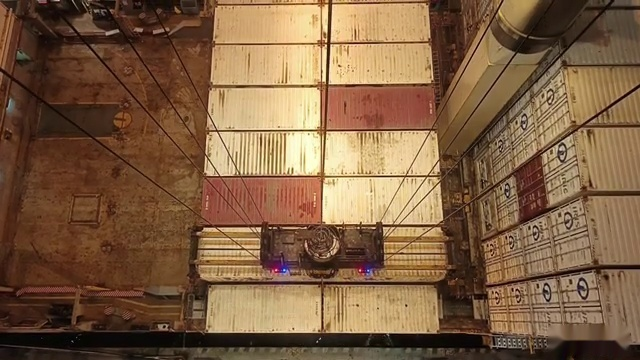container: (194, 223, 448, 283), (197, 175, 446, 223), (203, 129, 440, 176), (205, 286, 440, 333), (206, 86, 437, 132), (207, 41, 434, 86), (212, 3, 436, 42)
guide_mark: (62, 346, 561, 360), (97, 344, 541, 356)
spreader: (186, 217, 459, 288)
target_slot: (192, 224, 449, 280)
